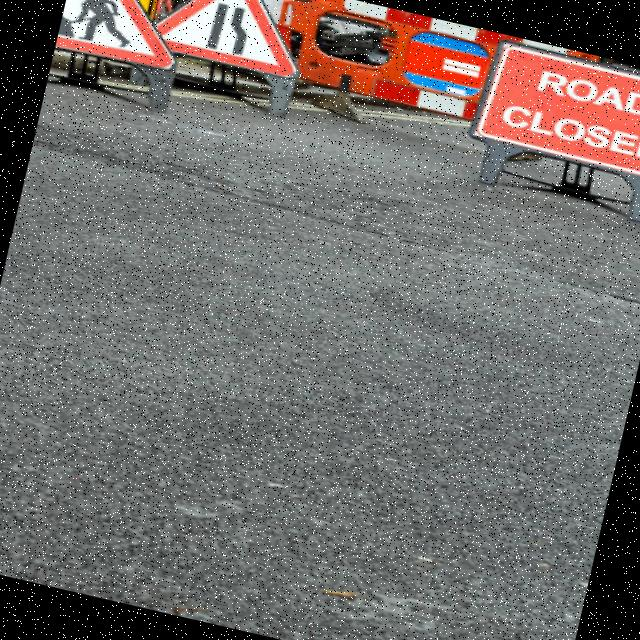road_work: (54, 0, 187, 73)
